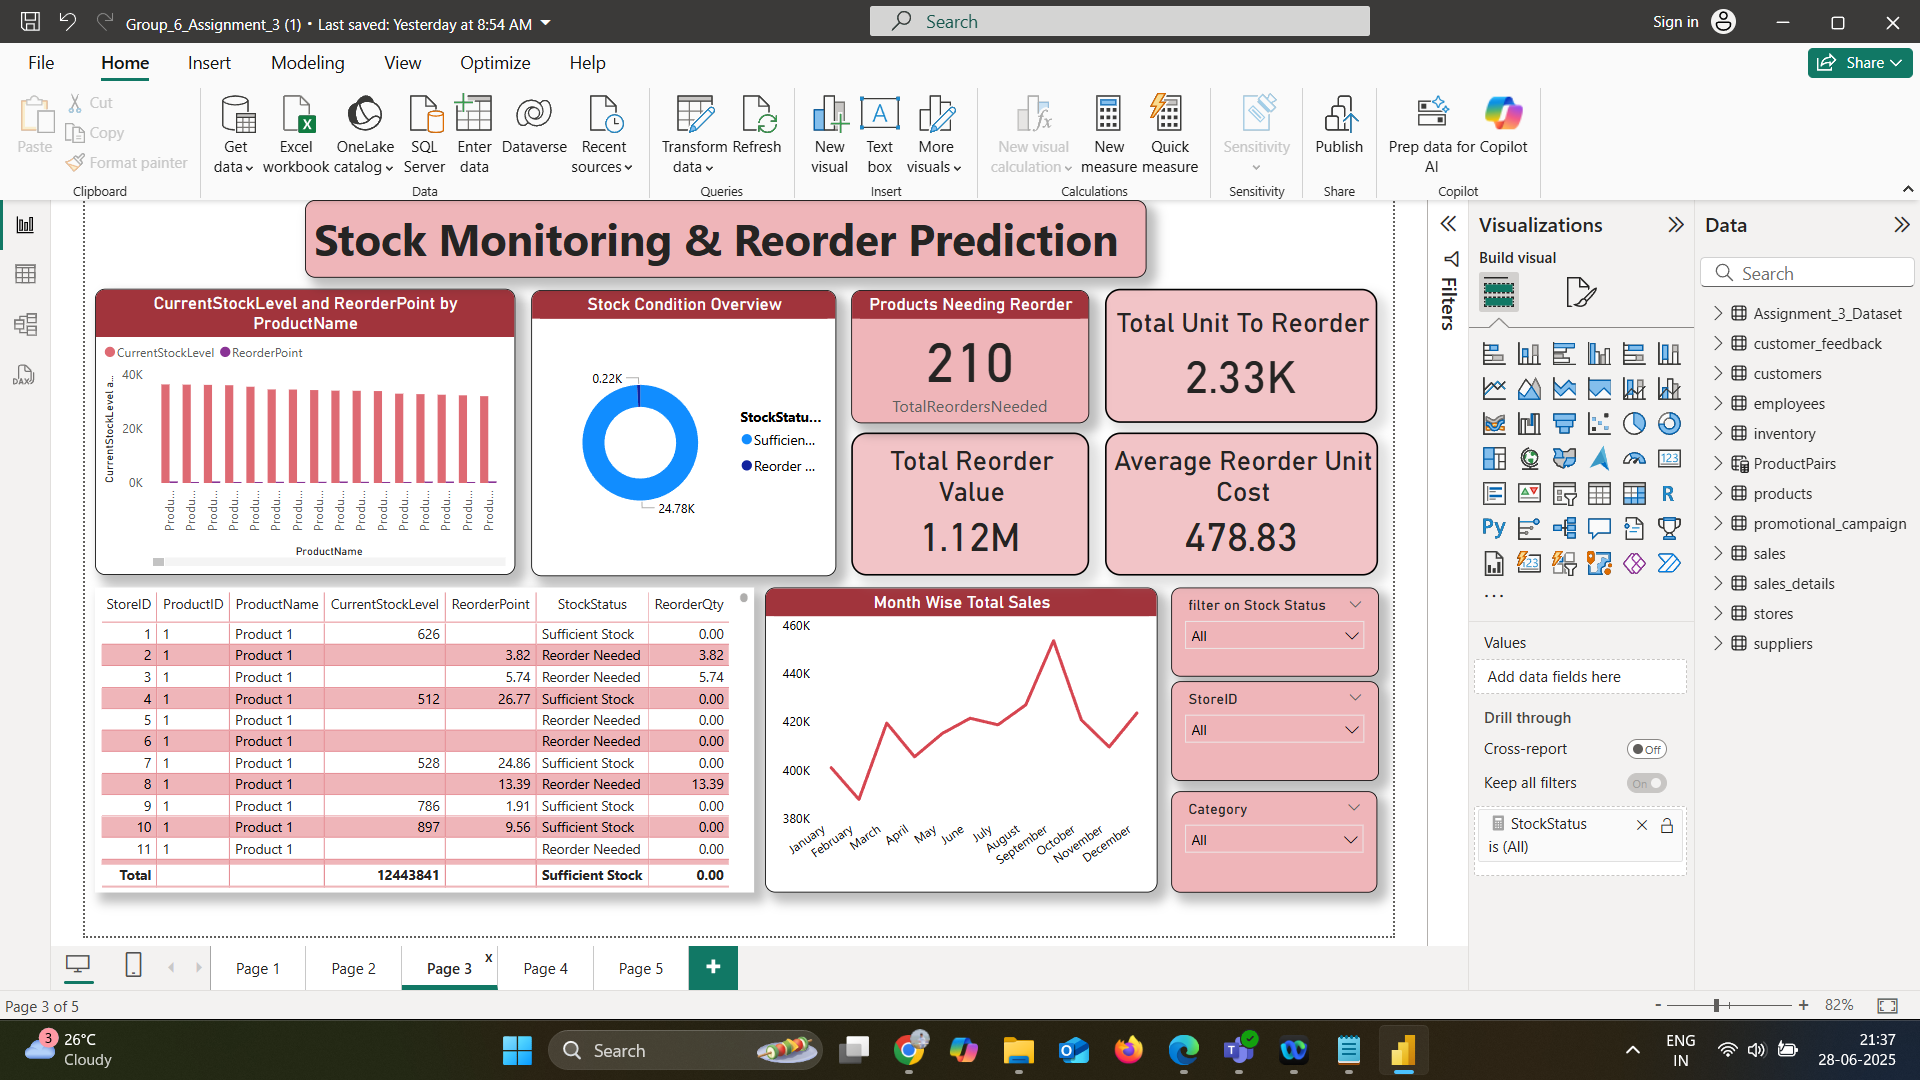

The dashboard page shown, as its layout file describes it:
{"tool":"powerbi","page":{"name":"Page 3","canvas":[1280,720],"ordinal":2},"visuals":[{"type":"clusteredColumnChart","fields":{"Category":["products.ProductName"],"Y":["inventory.CurrentStockLevel","sales_details.ReorderPoint"]},"box":[9.8,86.8,410.9,280],"z":0},{"type":"donutChart","title":"Stock Condition Overview","fields":{"Category":["inventory.StockStatusColumn"],"Y":["CountNonNull(inventory.InventoryID)"]},"box":[436.2,87.5,298.8,280],"z":1000},{"type":"tableEx","fields":{"Values":["stores.StoreID","products.ProductID","products.ProductName","inventory.CurrentStockLevel","sales_details.ReorderPoint","sales_details.StockStatus","inventory.ReorderQty"]},"box":[9.8,379.1,644.4,298.4],"z":6000},{"type":"lineChart","title":"Month Wise Total Sales","fields":{"Category":["sales.SaleDate.Variation.Date Hierarchy.Month","sales.SaleDate.Variation.Date Hierarchy.Day"],"Y":["sales.TotalSales"]},"box":[665.2,379.1,384,298.4],"z":7000},{"type":"slicer","fields":{"Values":["inventory.StockStatusColumn"]},"box":[1062.6,379.1,203,86.8],"z":8000},{"type":"slicer","fields":{"Values":["stores.StoreID"]},"box":[1062.6,470.8,203,97.8],"z":9000},{"type":"slicer","fields":{"Values":["products.Category"]},"box":[1062.6,578.4,201.8,99],"z":10000},{"type":"textbox","box":[215.2,0,823,75.8],"z":11000},{"type":"card","title":"Total Unit To Reorder","fields":{"Values":["inventory.TotalUnitsToReorder"]},"box":[997.5,86.2,266.2,131.2],"z":11001},{"type":"card","title":"Average Reorder Unit Cost","fields":{"Values":["inventory.AverageReorderUnitCost"]},"box":[997.5,227.5,267.5,140],"z":11002},{"type":"card","title":"Total Reorder Value","fields":{"Values":["inventory.TotalReorderValue"]},"box":[750,227.5,232.5,140],"z":11003},{"type":"card","title":"Products Needing Reorder","fields":{"Values":["inventory.TotalReordersNeeded"]},"box":[750,87.5,232.5,130],"z":11004}]}

Visuals, with their boxes on the page's 1280x720 design canvas (x1, y1, x2, y2). These are canvas units, not pixel positions in the 1920x1080 screenshot, which may show the page scaled, cropped or inside an application window:
clusteredColumnChart - products.ProductName x inventory.CurrentStockLevel: box(10, 87, 421, 367)
"Stock Condition Overview" donutChart: box(436, 88, 735, 368)
tableEx - stores.StoreID x products.ProductID: box(10, 379, 654, 678)
"Month Wise Total Sales" lineChart: box(665, 379, 1049, 678)
slicer - inventory.StockStatusColumn: box(1063, 379, 1266, 466)
slicer - stores.StoreID: box(1063, 471, 1266, 569)
slicer - products.Category: box(1063, 578, 1264, 677)
textbox: box(215, 0, 1038, 76)
"Total Unit To Reorder" card: box(998, 86, 1264, 217)
"Average Reorder Unit Cost" card: box(998, 228, 1265, 368)
"Total Reorder Value" card: box(750, 228, 982, 368)
"Products Needing Reorder" card: box(750, 88, 982, 218)
